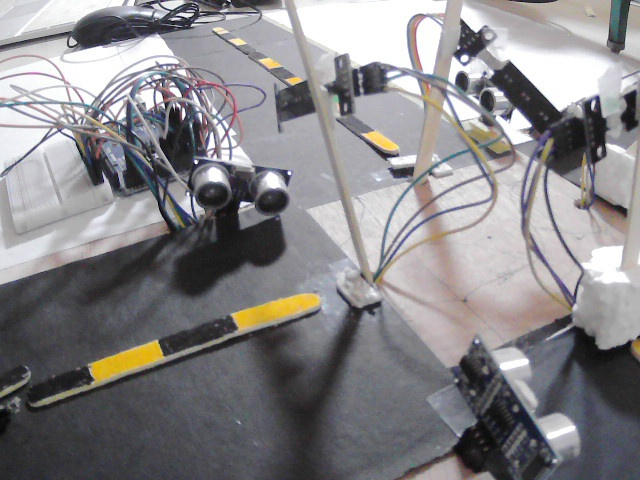black_strip: (152, 314, 241, 353), (26, 362, 90, 407), (324, 111, 370, 134), (0, 362, 32, 387), (235, 41, 264, 59), (266, 66, 294, 78), (216, 27, 233, 39)
mixed_lane: (0, 283, 320, 416), (206, 14, 307, 83), (338, 114, 406, 156)
traffic_light: (458, 21, 562, 141), (255, 63, 382, 126), (547, 84, 640, 168)
uno_breadboard: (2, 66, 230, 237), (461, 333, 584, 474), (188, 147, 298, 216), (452, 71, 512, 120)
yellow_strip: (233, 285, 320, 338), (76, 336, 162, 384), (361, 126, 394, 147), (250, 56, 276, 66), (286, 74, 304, 84), (228, 36, 244, 45), (214, 21, 224, 35)
